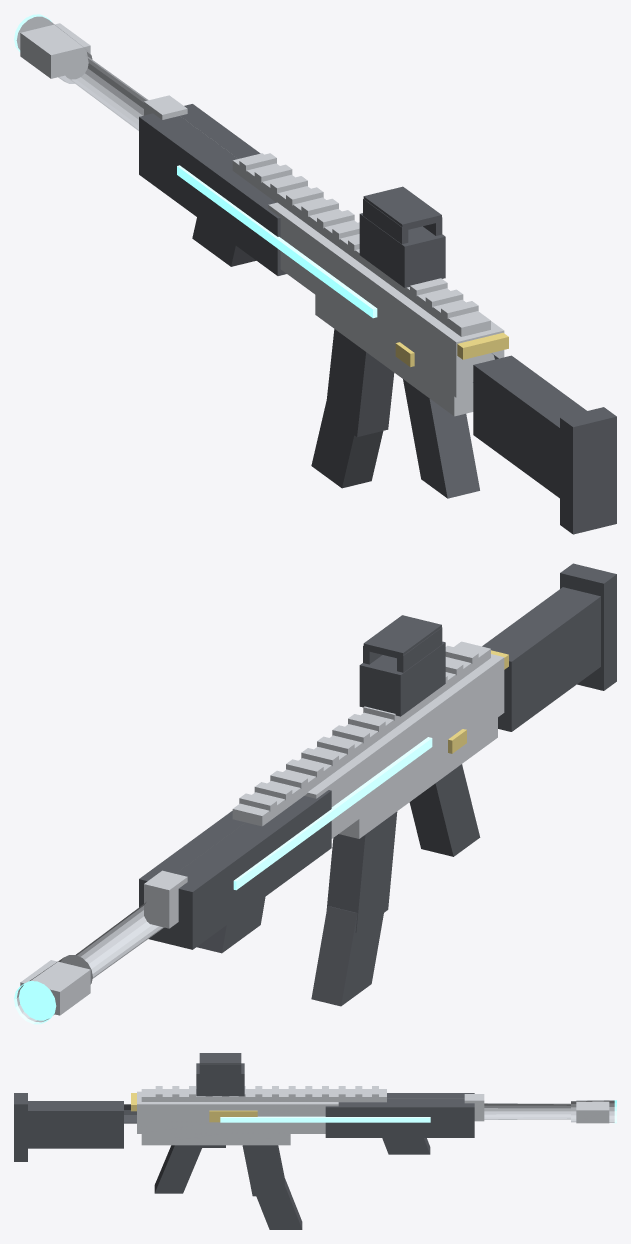
The model's file is VX47_AssaultRifle.glb.
The picture shows the model from 3 angles, top to bottom: view 1: azimuth 30°, elevation 25°; view 2: azimuth 150°, elevation 25°; view 3: azimuth 270°, elevation 25°; orthographic projection. The views are drawn at different scales.
Visible parts, largest first — view 1: VX47_AssaultRifle; view 2: VX47_AssaultRifle; view 3: VX47_AssaultRifle.
Part boxes in pixels (x1,y1,x2,y2): VX47_AssaultRifle: [14, 14, 616, 534]; VX47_AssaultRifle: [14, 563, 616, 1024]; VX47_AssaultRifle: [14, 1053, 616, 1229].
Size of the model in its own units: 0.084 by 0.4225 by 1.38.
